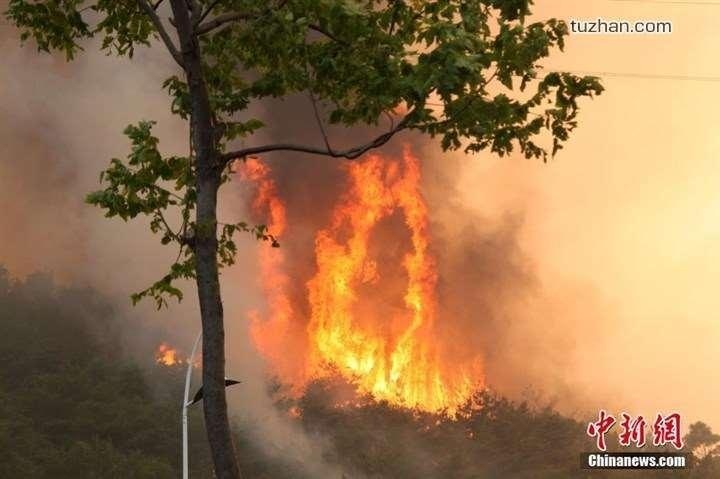fire: (255, 150, 484, 416), (153, 341, 179, 366)
